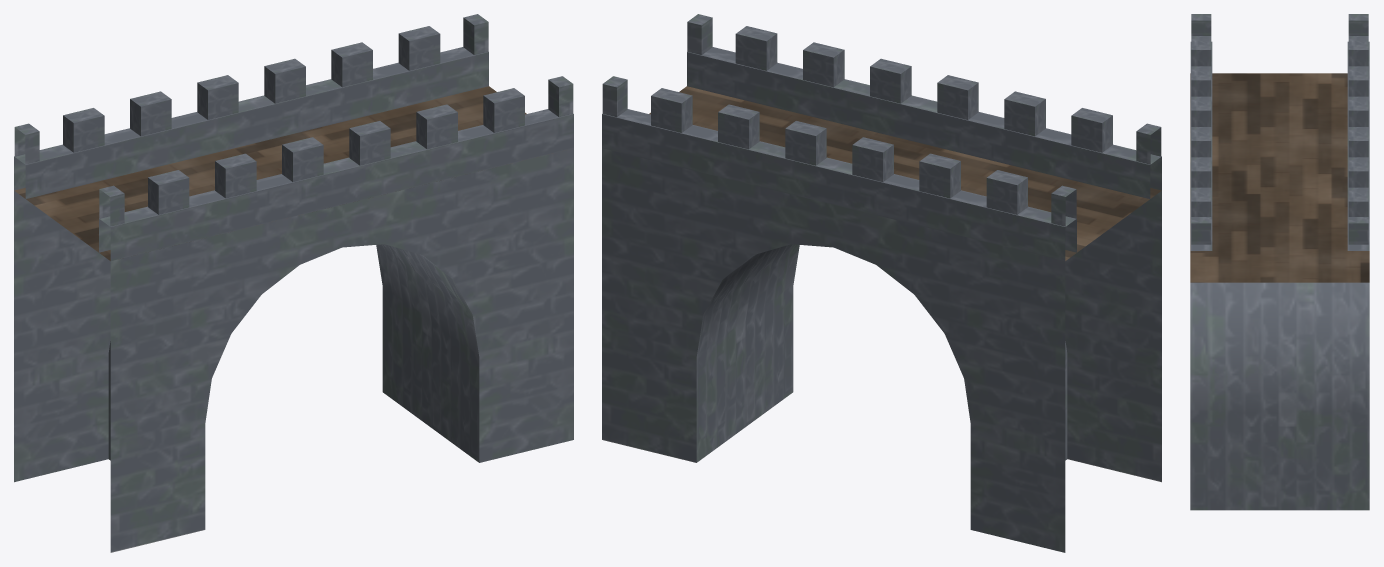
Rendered from SM_Fortress_DrawbridgeWall.fbx.
3 views of the same model, side by side, from view 1: azimuth 30°, elevation 25°; view 2: azimuth 150°, elevation 25°; view 3: azimuth 270°, elevation 25° (orthographic). The views are drawn at different scales.
Visible parts, largest first — view 1: polySurface965; view 2: polySurface965; view 3: polySurface965.
Part boxes in pixels (box(x1,y1,x2,y2)): polySurface965: box(14, 14, 573, 552); polySurface965: box(602, 14, 1161, 552); polySurface965: box(1190, 14, 1369, 510).
Bounding box in the file's own units: 914 × 670 × 330.
